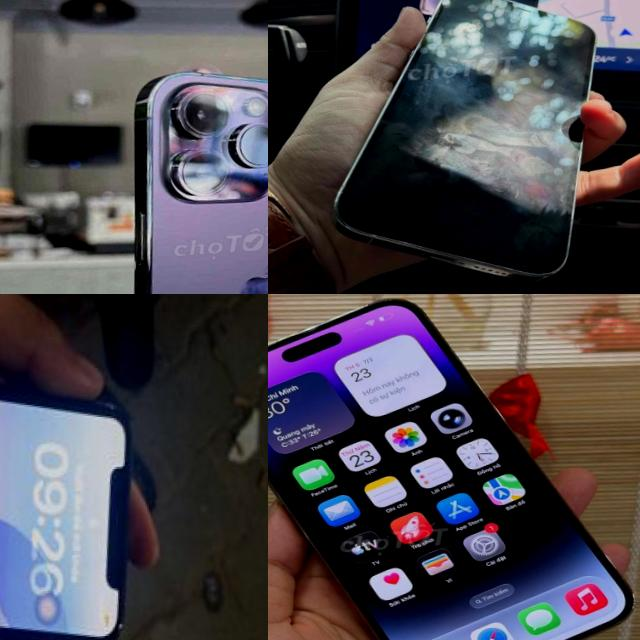gen_12_13: (314, 0, 612, 293)
gen_14: (268, 294, 640, 640), (101, 50, 268, 294)
gen_x_xs: (0, 307, 161, 640)
